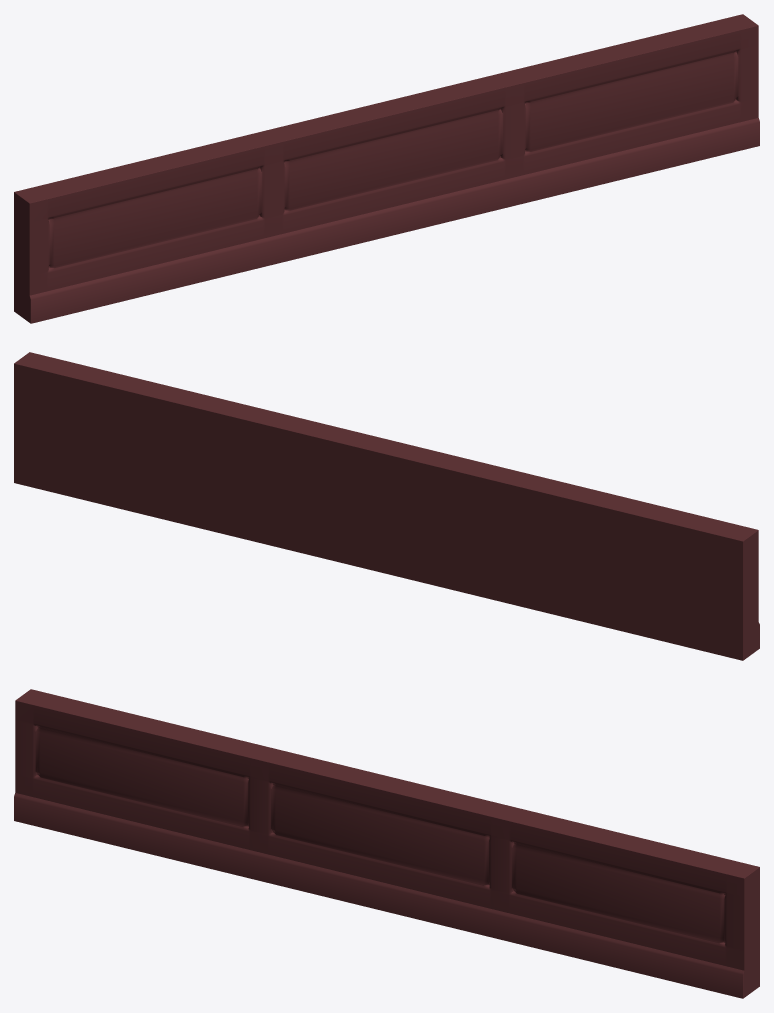
The model's file is stallriser.glb.
The picture shows the model from 3 angles, top to bottom: view 1: azimuth 30°, elevation 25°; view 2: azimuth 150°, elevation 25°; view 3: azimuth 330°, elevation 25°; orthographic projection.
Parts seen in each view (by area): view 1: sta_panel; view 2: sta_panel; view 3: sta_panel.
Part boxes in pixels (x1,y1,x2,y2): sta_panel: (14,14,759,323); sta_panel: (14,352,759,660); sta_panel: (14,689,759,998).
Size of the model in its own units: 3.35 by 0.525 by 0.135.
